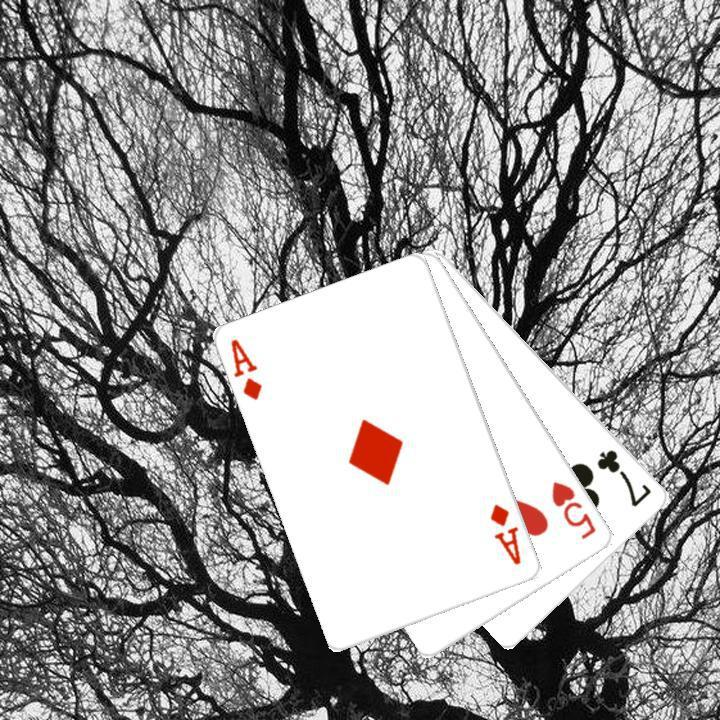5: (547, 477, 599, 542)
7: (592, 444, 654, 509)
A: (486, 500, 524, 568), (227, 335, 265, 402)
